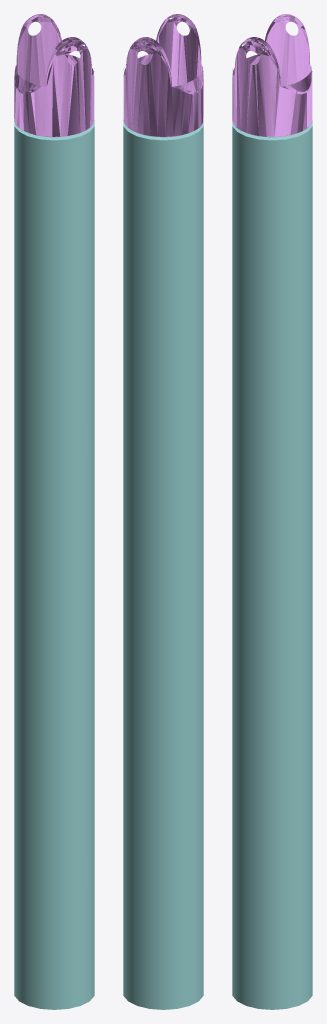
Rendered from new_cylin_add.obj.
The picture shows the model from 3 angles, left to right: view 1: azimuth 30°, elevation 25°; view 2: azimuth 150°, elevation 25°; view 3: azimuth 330°, elevation 25°; orthographic projection.
Parts seen in each view (by area): view 1: Cylinder001, 332009_DC_Shell; view 2: Cylinder001, 332009_DC_Shell; view 3: Cylinder001, 332009_DC_Shell.
Boxes of the visible parts, x1,y1,x2,y2 form: Cylinder001: (14,120,94,1009); 332009_DC_Shell: (14,14,94,137); Cylinder001: (123,120,203,1009); 332009_DC_Shell: (123,14,203,137); Cylinder001: (232,120,312,1009); 332009_DC_Shell: (232,14,312,137).
Bounding box in the file's own units: 0.3346 × 4.37 × 0.3296.
